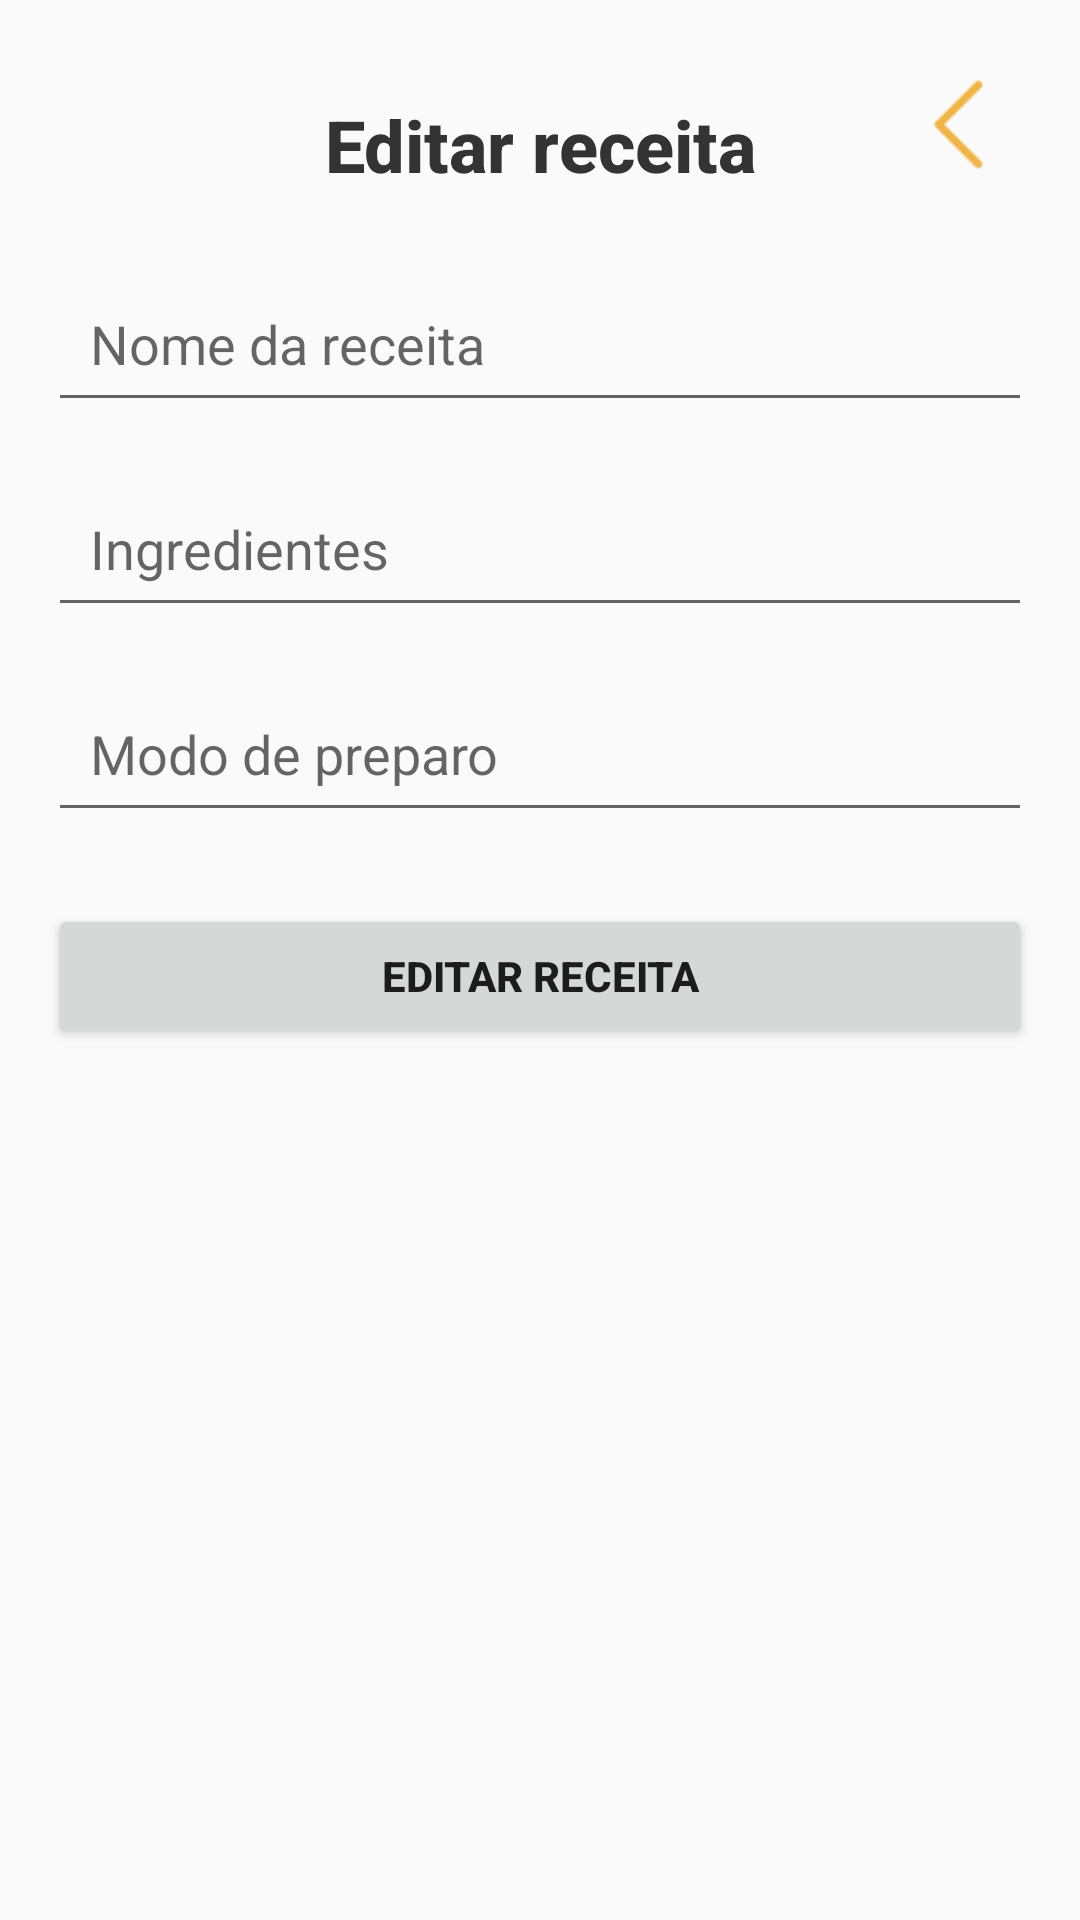

Named icons in this screenshot (1080px×1920px) and their bounding boxes, detection(x1, y1, x2, y2):
Botão de voltar: detection(934, 80, 983, 169)
